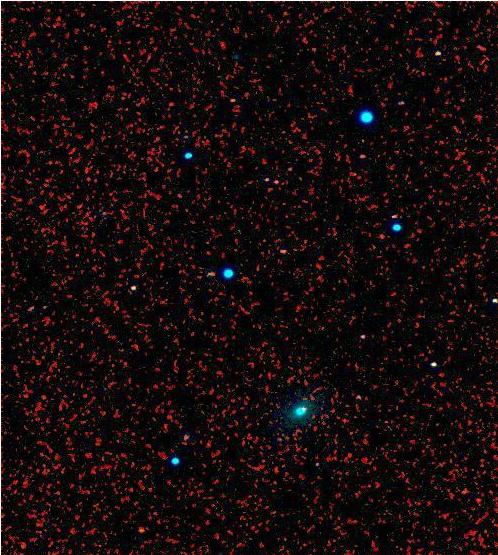star: (125, 515, 155, 545)
